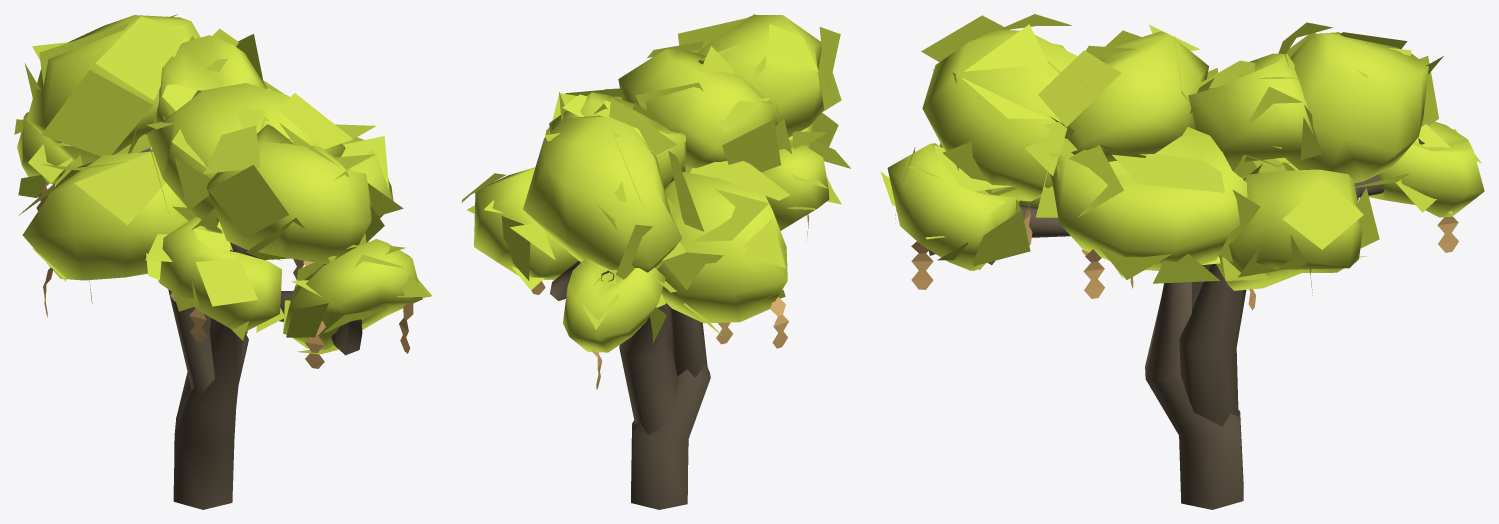
Rendered from arbol_huizache.fbx.
3 views of the same model, side by side, from view 1: azimuth 30°, elevation 25°; view 2: azimuth 150°, elevation 25°; view 3: azimuth 270°, elevation 25° (orthographic). The views are drawn at different scales.
Parts seen in each view (by area): view 1: hojas, hojas.001, tronco, vainas; view 2: hojas, hojas.001, tronco, vainas; view 3: hojas, hojas.001, tronco, vainas.
Part boxes in pixels (x1,y1,x2,y2): hojas: (17,15,422,350); hojas.001: (14,14,432,354); tronco: (139,148,362,509); vainas: (36,183,413,368); hojas: (474,15,829,352); hojas.001: (461,14,850,343); tronco: (550,178,718,509); vainas: (531,214,809,389); hojas: (887,29,1484,290); hojas.001: (880,14,1481,283); tronco: (929,138,1424,509); vainas: (911,200,1458,310).
Size of the model in its own units: 757 by 1011 by 1188.
